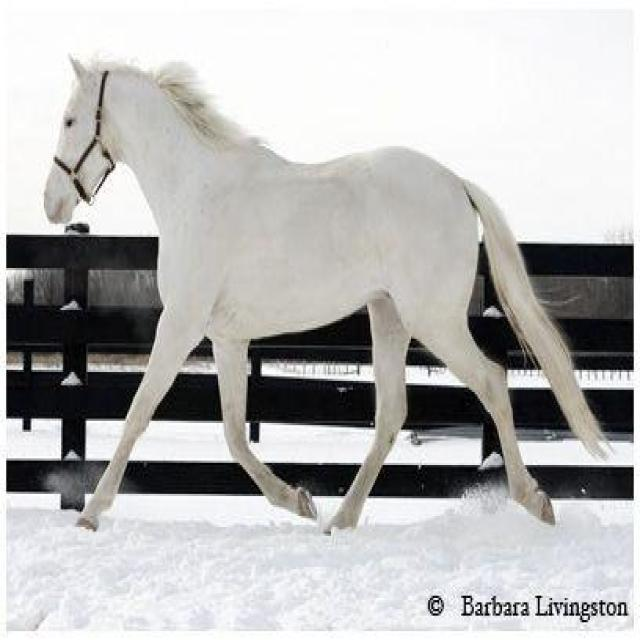horse: (42, 49, 615, 536)
